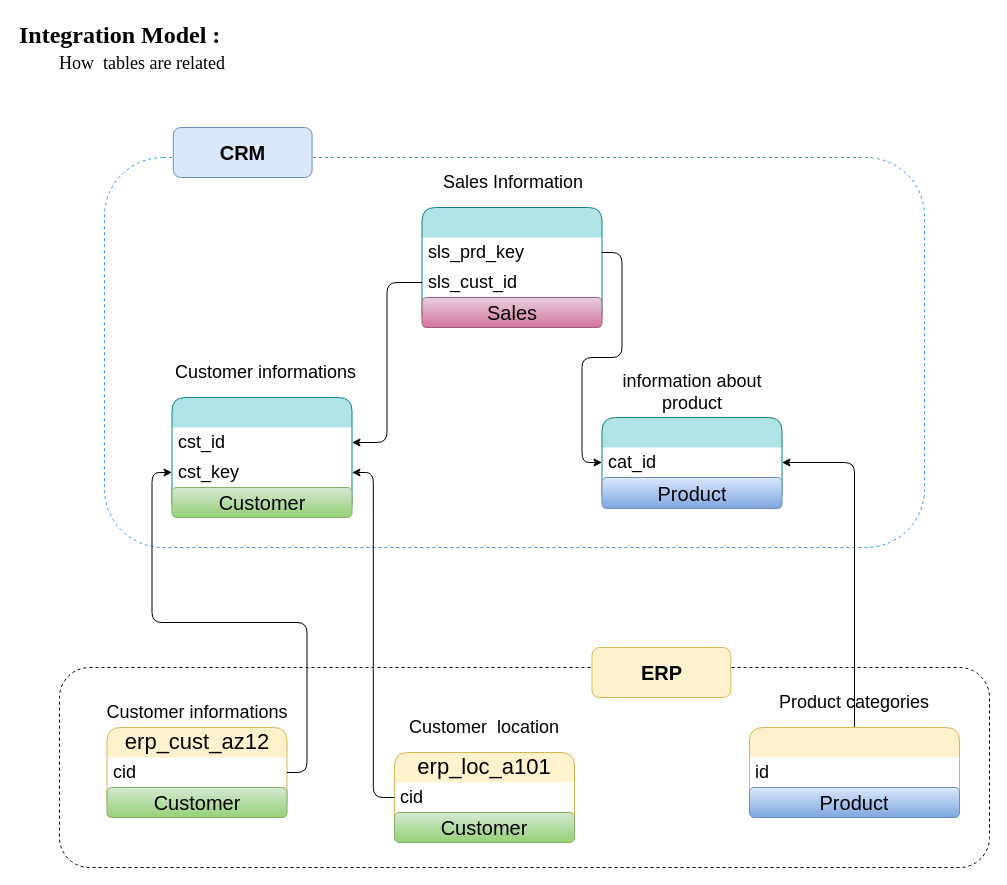
The diagram is 1007 pixels wide and 885 high, and some of its shapes have lost their labels. The shapes that lost their labels are listed below. From the top down, each one's box as (x1, y1, x2, y2) in pixels, then its label:
(421, 206, 602, 328): crm_sales_details
(171, 396, 352, 518): crm_cust_info
(601, 416, 782, 508): crm_prd_info
(748, 726, 960, 818): erp_px_cat_g1v2
